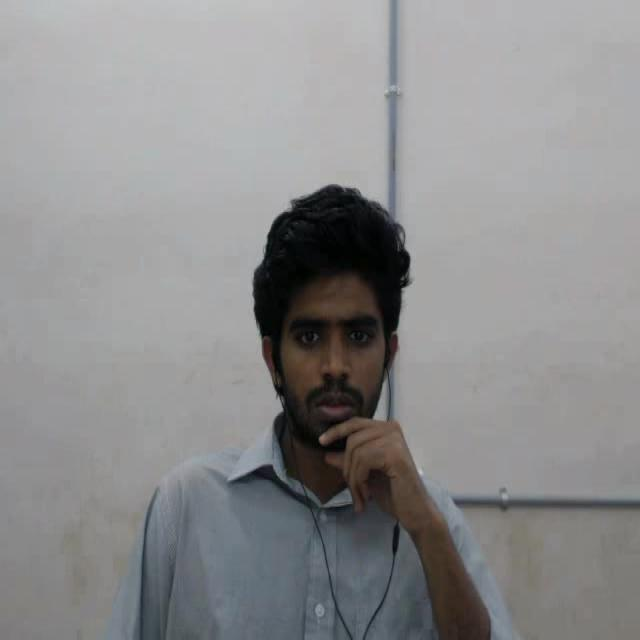Bored: (230, 172, 434, 481)
